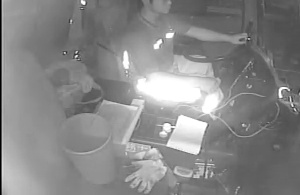paper: (165, 112, 209, 158)
